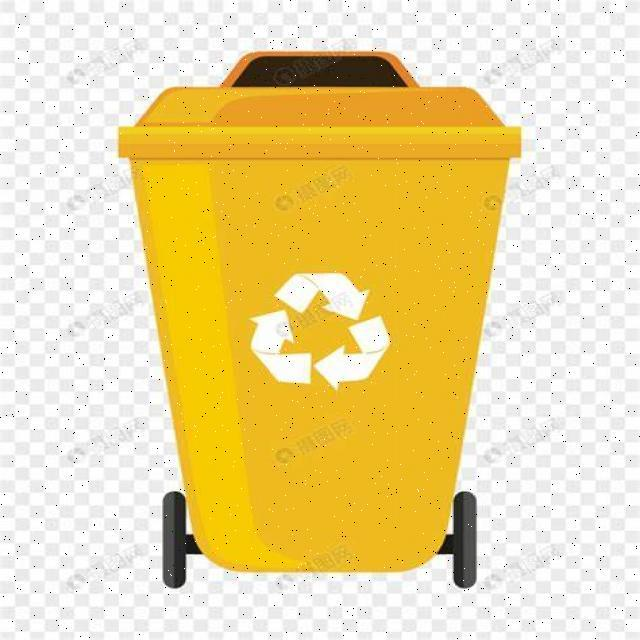garbage container: (103, 24, 540, 604)
